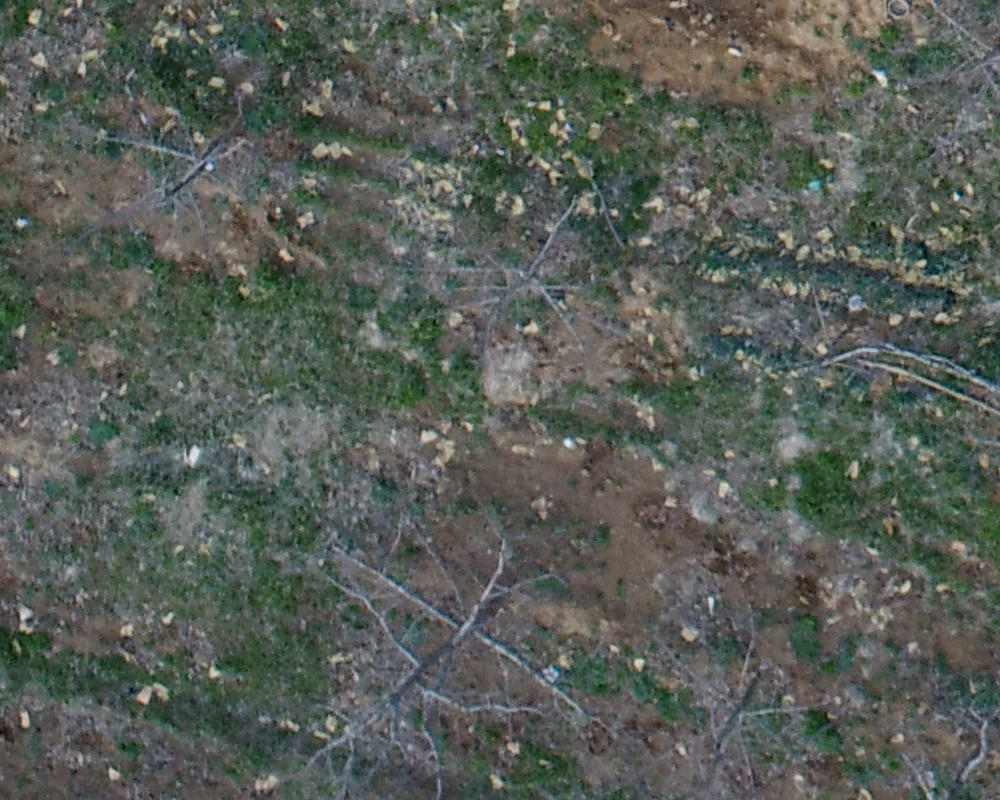apple: (270, 508, 586, 790), (615, 593, 825, 790), (391, 195, 619, 365), (70, 94, 264, 263)
